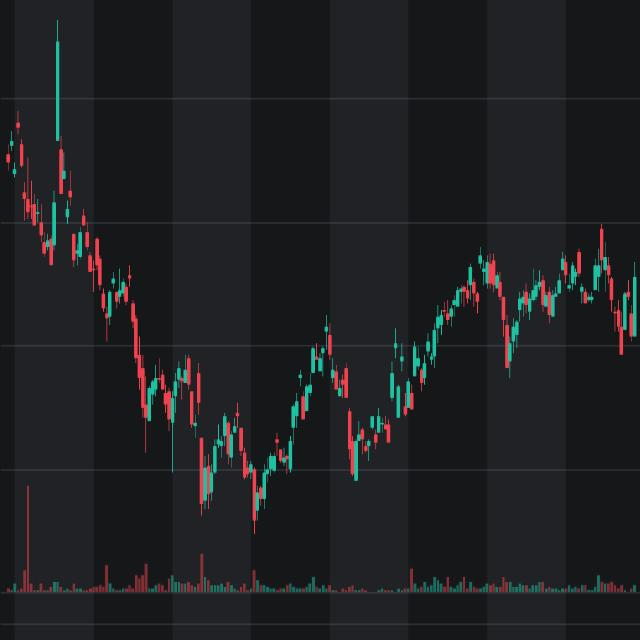Resistance-breakout: (290, 238, 487, 470)
